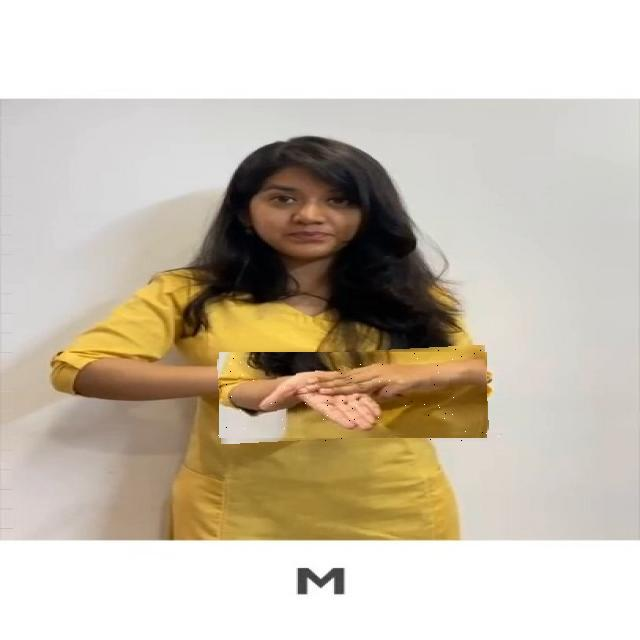M: (218, 349, 488, 441)
